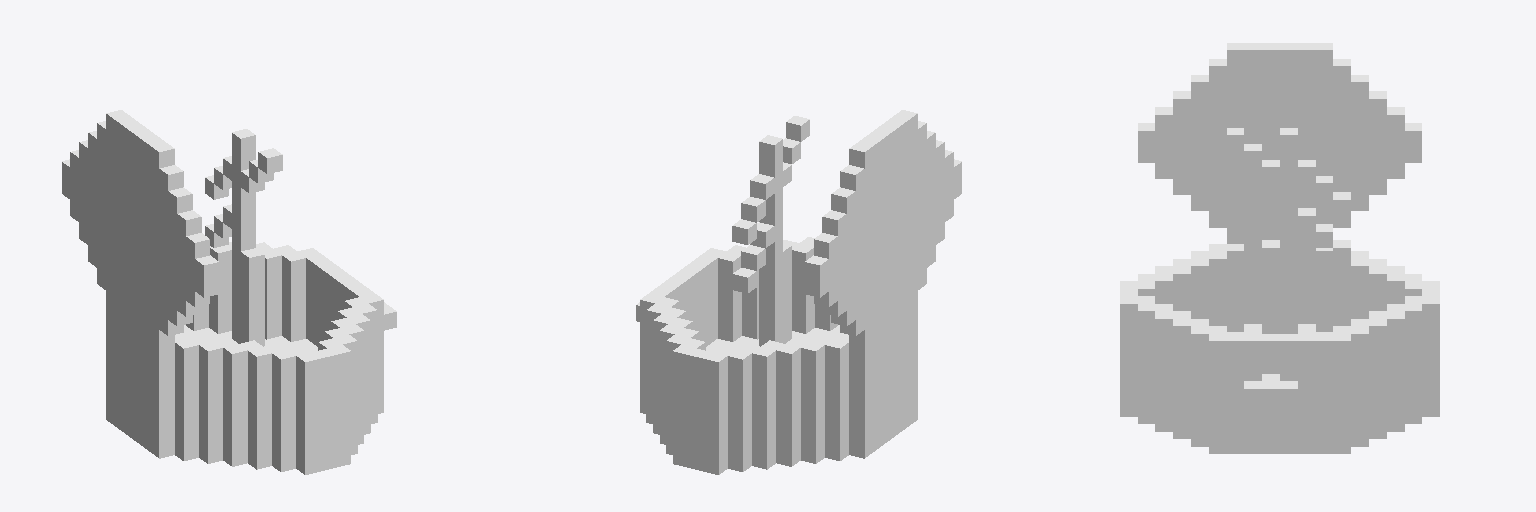
The model's file is v_Musikbox_überarbeitet.obj.
The picture shows the model from 3 angles: view 1: azimuth 30°, elevation 25°; view 2: azimuth 150°, elevation 25°; view 3: azimuth 270°, elevation 25°; orthographic projection.
Parts seen in each view (by area): view 1: object 1; view 2: object 1; view 3: object 1.
Boxes of the visible parts, <box> form: object 1: <box>62,110,396,474</box>; object 1: <box>636,110,961,474</box>; object 1: <box>1120,43,1439,453</box>.
Size of the model in its own units: 1.6 by 1.9 by 1.8.